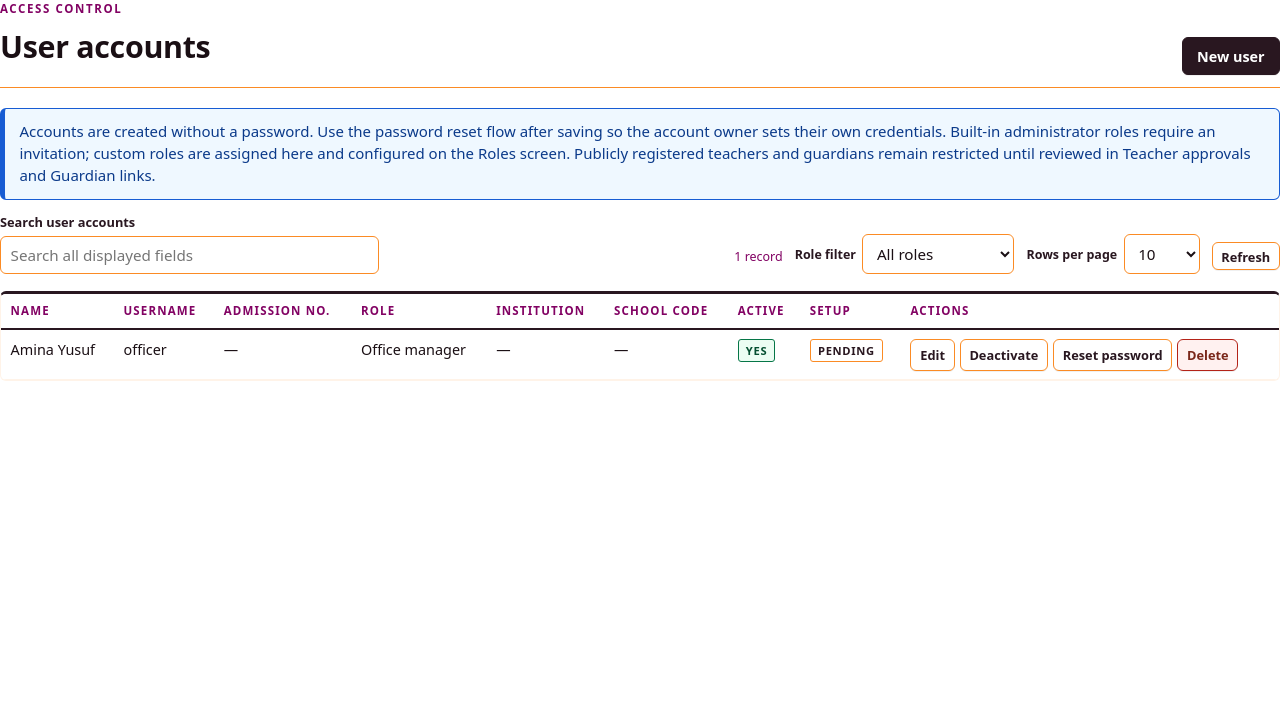
Scenario: Users custom role assignment › confirms status changes in a dialog instead of a browser prompt
Later steps or results of the test are not shown.
Click the button with aria-label "Deactivate Amina Yusuf": (1004, 355) [960,339,1048,371]
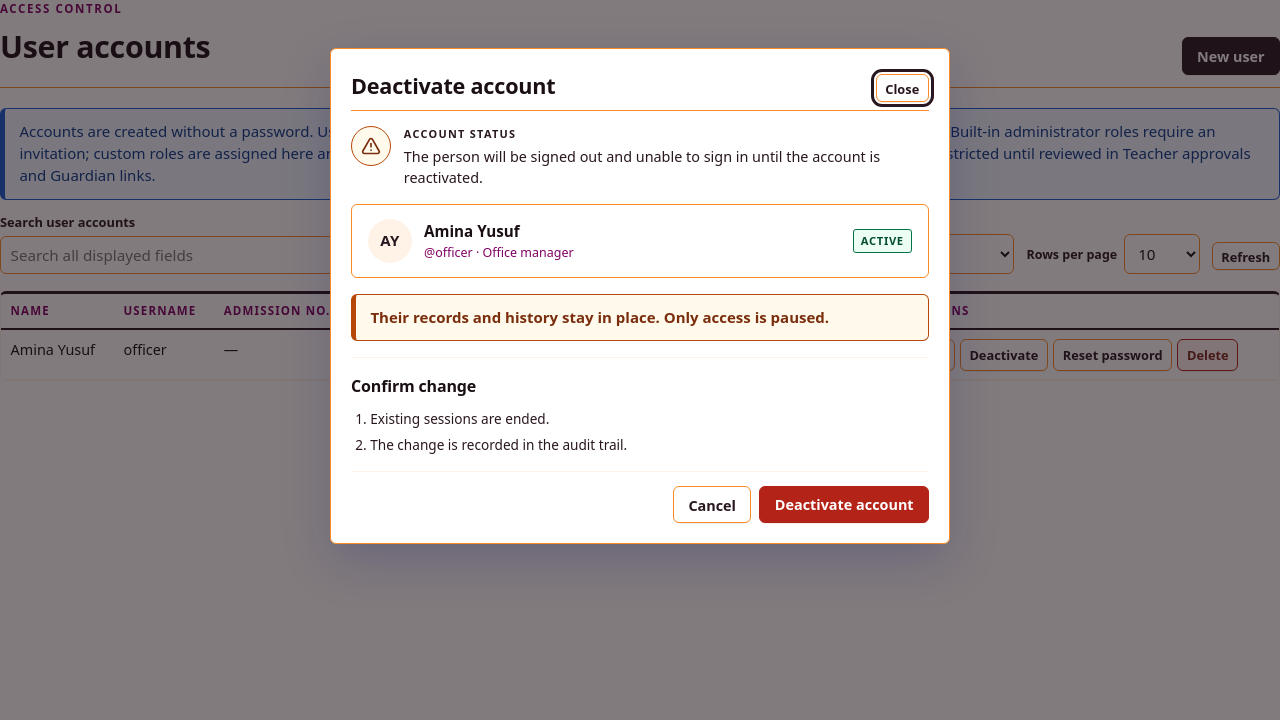
Result: the text "unable to sign in until the account is reactivated" is shown at [404,147,880,187]
